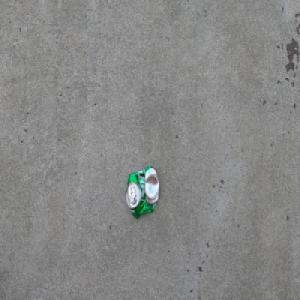SodaCan: (125, 165, 160, 220)
